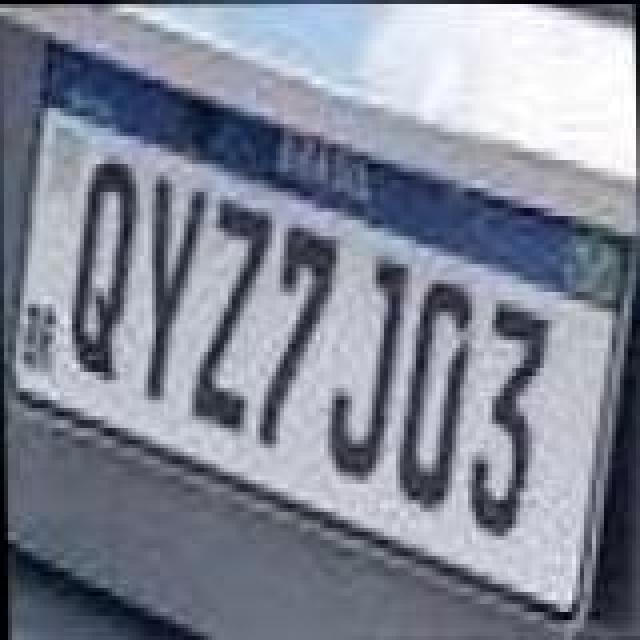3: (464, 292, 552, 536)
7: (252, 224, 344, 452)
D: (392, 274, 480, 510)
J: (320, 258, 412, 482)
Q: (66, 158, 146, 386)
Y: (140, 166, 216, 402)
Z: (184, 194, 276, 438)
